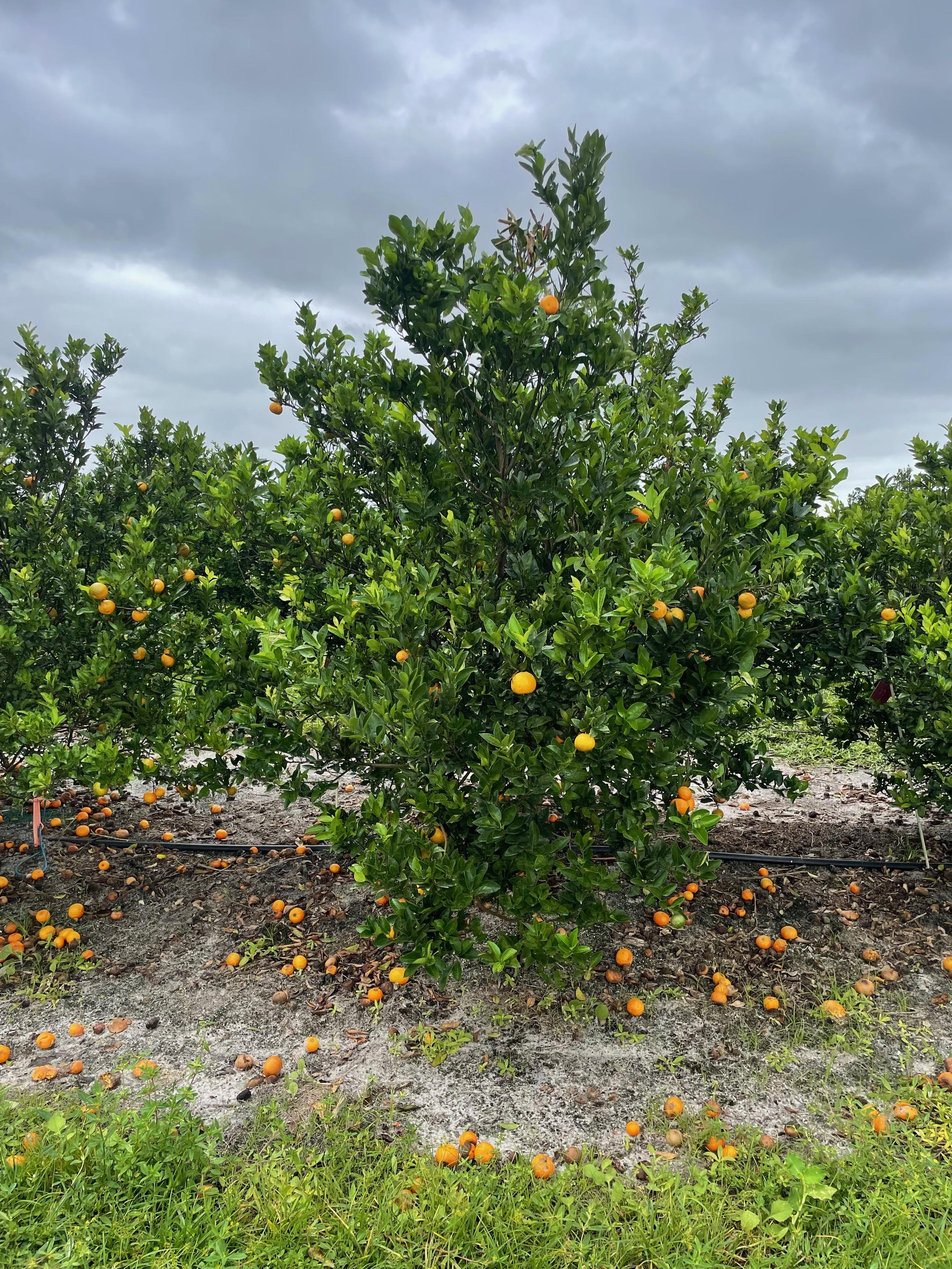fruit_on_ground: (509, 669, 538, 697), (537, 291, 562, 318), (684, 645, 712, 667), (664, 603, 688, 628), (573, 729, 598, 753), (424, 678, 448, 702), (627, 504, 652, 527), (343, 594, 367, 617), (686, 582, 710, 604), (648, 597, 670, 621), (667, 796, 692, 817), (736, 590, 759, 611), (87, 580, 110, 601), (427, 825, 448, 845), (733, 603, 755, 622), (394, 646, 415, 665), (158, 648, 177, 668), (268, 550, 287, 569), (733, 466, 753, 484), (40, 604, 60, 622), (326, 506, 345, 524), (879, 605, 898, 623), (173, 541, 192, 559), (147, 577, 166, 595), (668, 912, 687, 930), (96, 598, 116, 615), (130, 607, 148, 625), (24, 382, 43, 399), (91, 780, 110, 797), (675, 785, 694, 802), (267, 399, 286, 416), (139, 756, 156, 774), (339, 529, 357, 546), (679, 796, 697, 813), (286, 529, 305, 545), (21, 472, 38, 489), (180, 566, 196, 583), (131, 645, 147, 661), (709, 806, 725, 821), (178, 786, 193, 800), (135, 480, 149, 494), (225, 783, 239, 797)
fruit_on_tree: (892, 1096, 920, 1122), (531, 1152, 556, 1179), (434, 1142, 460, 1166), (818, 998, 845, 1021), (387, 964, 411, 988), (471, 1141, 496, 1164), (260, 1053, 284, 1076), (3, 1151, 28, 1173), (18, 1129, 41, 1151), (406, 1172, 430, 1193), (663, 1095, 685, 1117), (853, 976, 876, 997), (392, 1190, 414, 1211), (457, 1128, 479, 1149), (76, 1102, 101, 1120), (31, 1063, 56, 1081), (702, 1098, 723, 1119), (626, 996, 646, 1017), (34, 1030, 56, 1049), (562, 1144, 582, 1164), (614, 946, 634, 966), (870, 1113, 889, 1133), (665, 1126, 685, 1145), (719, 1142, 739, 1161), (911, 1072, 933, 1089), (859, 946, 881, 963), (287, 905, 306, 924), (709, 986, 729, 1004), (7, 934, 25, 953), (623, 1119, 641, 1138), (706, 1133, 726, 1150), (762, 994, 781, 1011), (779, 924, 798, 941), (652, 909, 671, 926), (603, 967, 623, 983), (303, 1034, 320, 1052), (754, 932, 772, 949), (66, 901, 84, 918), (270, 988, 289, 1004), (936, 1070, 952, 1089), (861, 1103, 879, 1119), (771, 937, 789, 953), (366, 985, 384, 1001), (847, 879, 864, 895), (760, 877, 777, 893), (224, 951, 241, 967), (711, 970, 729, 985), (57, 926, 75, 941), (65, 930, 83, 945), (0, 1042, 12, 1064), (271, 898, 287, 914), (68, 1021, 84, 1037), (713, 982, 730, 997), (684, 879, 700, 894), (91, 1020, 107, 1035), (740, 886, 755, 902), (36, 925, 52, 940), (292, 954, 308, 969), (68, 1059, 84, 1074), (278, 962, 295, 976), (301, 832, 319, 845), (940, 953, 952, 972), (695, 962, 711, 976), (3, 920, 19, 934), (35, 909, 51, 923), (323, 962, 338, 976), (545, 811, 561, 824), (940, 1053, 952, 1070), (173, 781, 188, 794), (375, 892, 390, 905), (737, 800, 752, 813), (30, 867, 45, 880), (75, 823, 90, 836), (716, 903, 730, 916), (328, 860, 342, 873), (52, 935, 65, 949), (757, 865, 771, 878), (75, 807, 90, 819), (734, 905, 747, 918), (294, 843, 308, 855), (681, 890, 695, 902), (81, 949, 95, 961), (214, 827, 228, 839), (12, 760, 24, 773), (144, 790, 156, 803), (49, 816, 62, 828), (98, 859, 111, 871), (209, 802, 223, 813), (115, 826, 129, 837), (154, 786, 166, 798), (343, 783, 356, 794), (186, 783, 199, 794), (216, 858, 229, 869), (80, 805, 93, 816), (247, 894, 260, 905), (49, 797, 62, 808), (66, 842, 79, 853), (161, 830, 174, 841), (0, 875, 11, 888), (100, 806, 113, 817), (40, 798, 53, 809), (18, 842, 30, 853), (267, 848, 280, 858), (209, 858, 222, 868), (60, 791, 74, 800), (176, 862, 187, 873), (110, 790, 121, 801), (138, 818, 149, 829), (94, 824, 106, 834), (396, 895, 408, 905), (3, 839, 15, 849), (0, 893, 10, 905), (125, 874, 137, 884), (65, 787, 77, 797), (235, 855, 246, 865), (249, 844, 260, 854)
